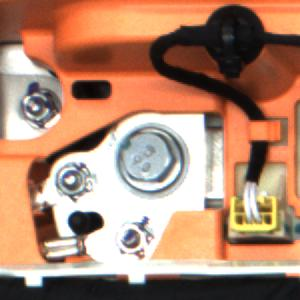nut_b: (113, 121, 188, 202)
screw_s: (110, 214, 152, 264), (14, 86, 56, 129), (55, 158, 97, 201)
